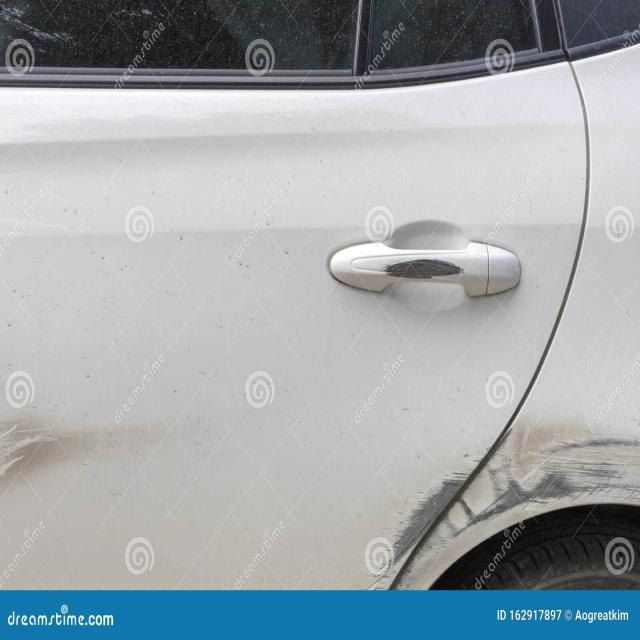scratch: (361, 411, 640, 591), (382, 258, 466, 281)
